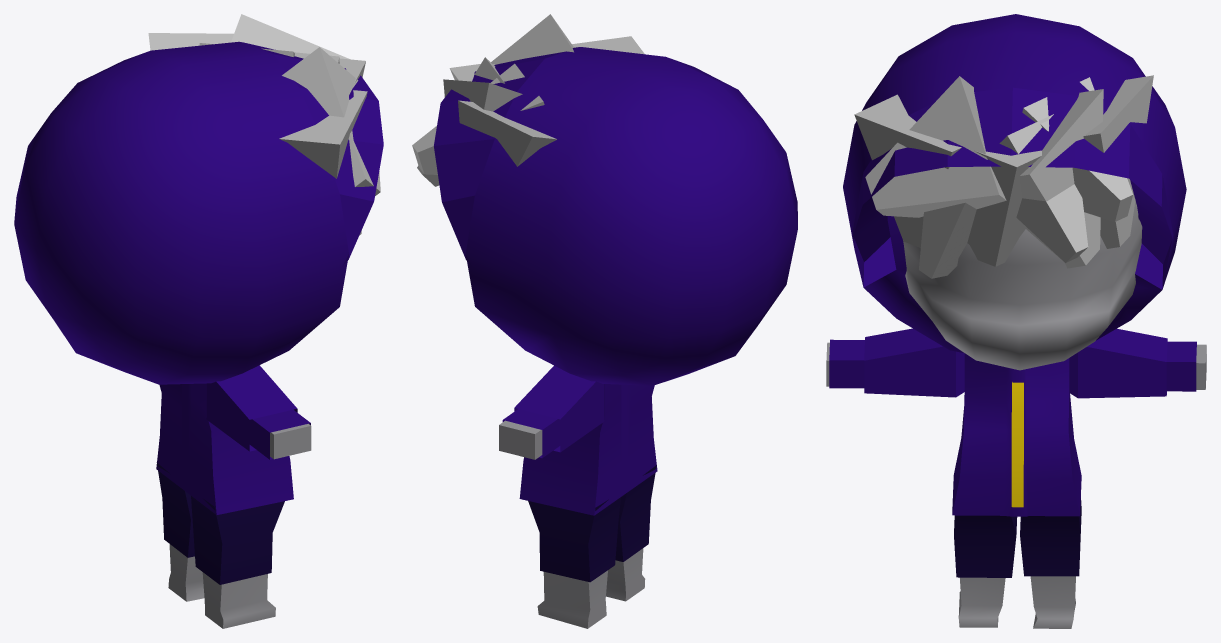
The model's file is Zend.fbx.
3 renders of one model, left to right at view 1: azimuth 30°, elevation 25°; view 2: azimuth 150°, elevation 25°; view 3: azimuth 270°, elevation 25°, orthographic. The views are drawn at different scales.
Parts seen in each view (by area): view 1: pCube18; view 2: pCube18; view 3: pCube18.
Part boxes in pixels (x1=…): pCube18: x1=14, y1=14, x2=383, y2=628; pCube18: x1=412, y1=14, x2=797, y2=628; pCube18: x1=826, y1=14, x2=1206, y2=628.
Size of the model in its own units: 2.99 by 4.79 by 2.88.
